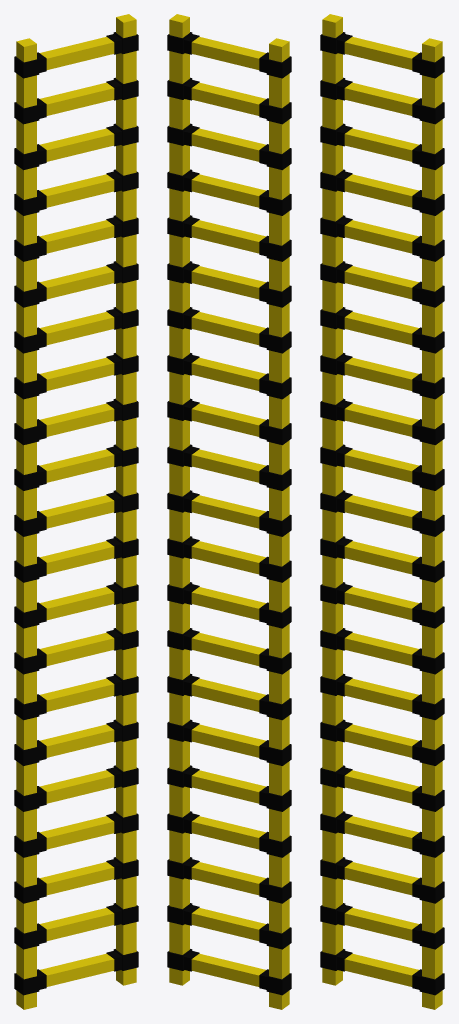
The model's file is Ladder.fbx.
3 renders of one model, left to right at view 1: azimuth 30°, elevation 25°; view 2: azimuth 150°, elevation 25°; view 3: azimuth 330°, elevation 25°, orthographic.
Parts seen in each view (by area): view 1: pCube159; view 2: pCube159; view 3: pCube159.
Boxes of the visible parts, box(x1,y1,x2,y2) form: pCube159: box(14, 14, 138, 1009); pCube159: box(167, 14, 291, 1009); pCube159: box(320, 14, 444, 1009).
Bounding box in the file's own units: 0.829 × 6.62 × 0.1149.
